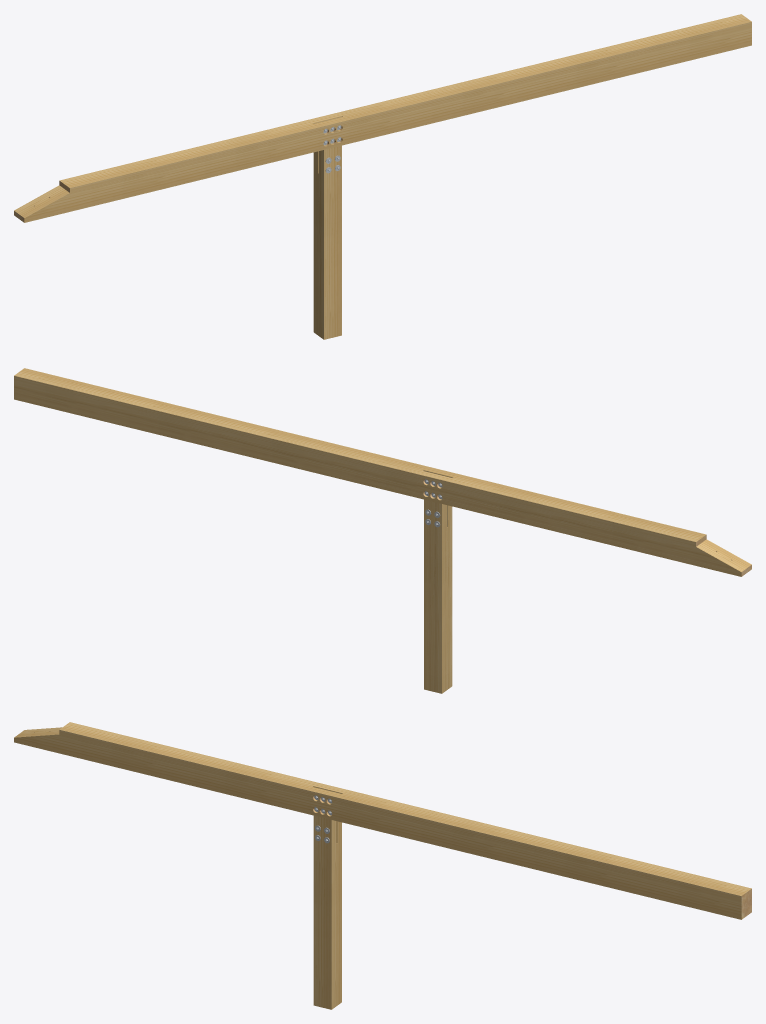
File: platew.glb
3 views of the same model, one above another, from view 1: azimuth 30°, elevation 25°; view 2: azimuth 150°, elevation 25°; view 3: azimuth 330°, elevation 25° (orthographic).
Visible parts, largest first — view 1: płatew pośrednia, słup; view 2: płatew pośrednia, słup; view 3: płatew pośrednia, słup.
Part boxes in pixels (box(x1,y1,x2,y2)): płatew pośrednia: box(14, 14, 751, 222); słup: box(313, 145, 341, 339); płatew pośrednia: box(14, 368, 751, 576); słup: box(424, 499, 452, 693); płatew pośrednia: box(14, 722, 751, 919); słup: box(313, 815, 341, 1009).
Size of the model in its own units: 6.41 by 1.8 by 0.2.
Materials: 54 (54 with a texture image).
